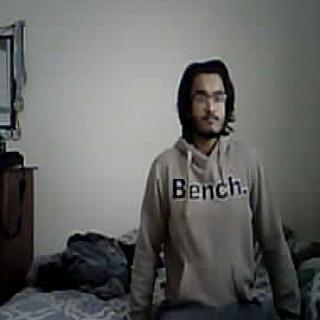Gray Sweatpants: (160, 304, 267, 320)
Yellow Hoodie: (134, 144, 299, 304)
